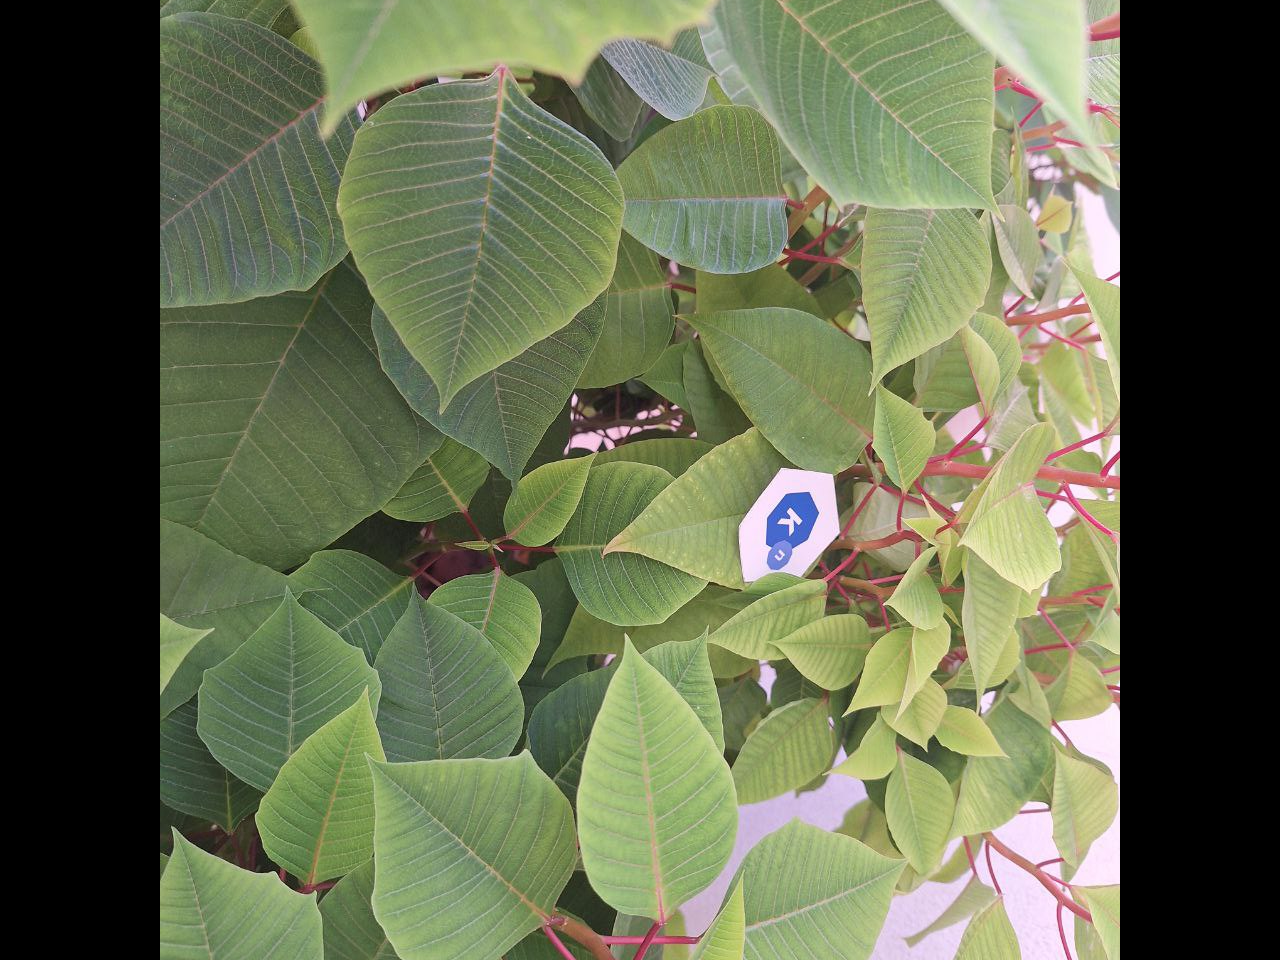knative: (764, 491, 821, 571)
